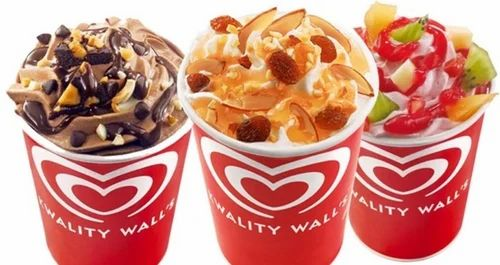Kwality_Walls: (22, 137, 188, 244), (198, 128, 353, 241), (354, 131, 477, 207)
